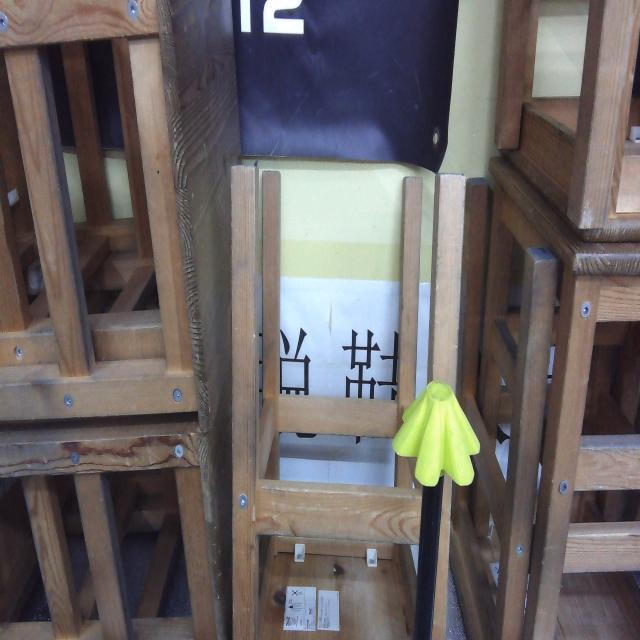Yellow-Stake-Head: (392, 381, 480, 487)
